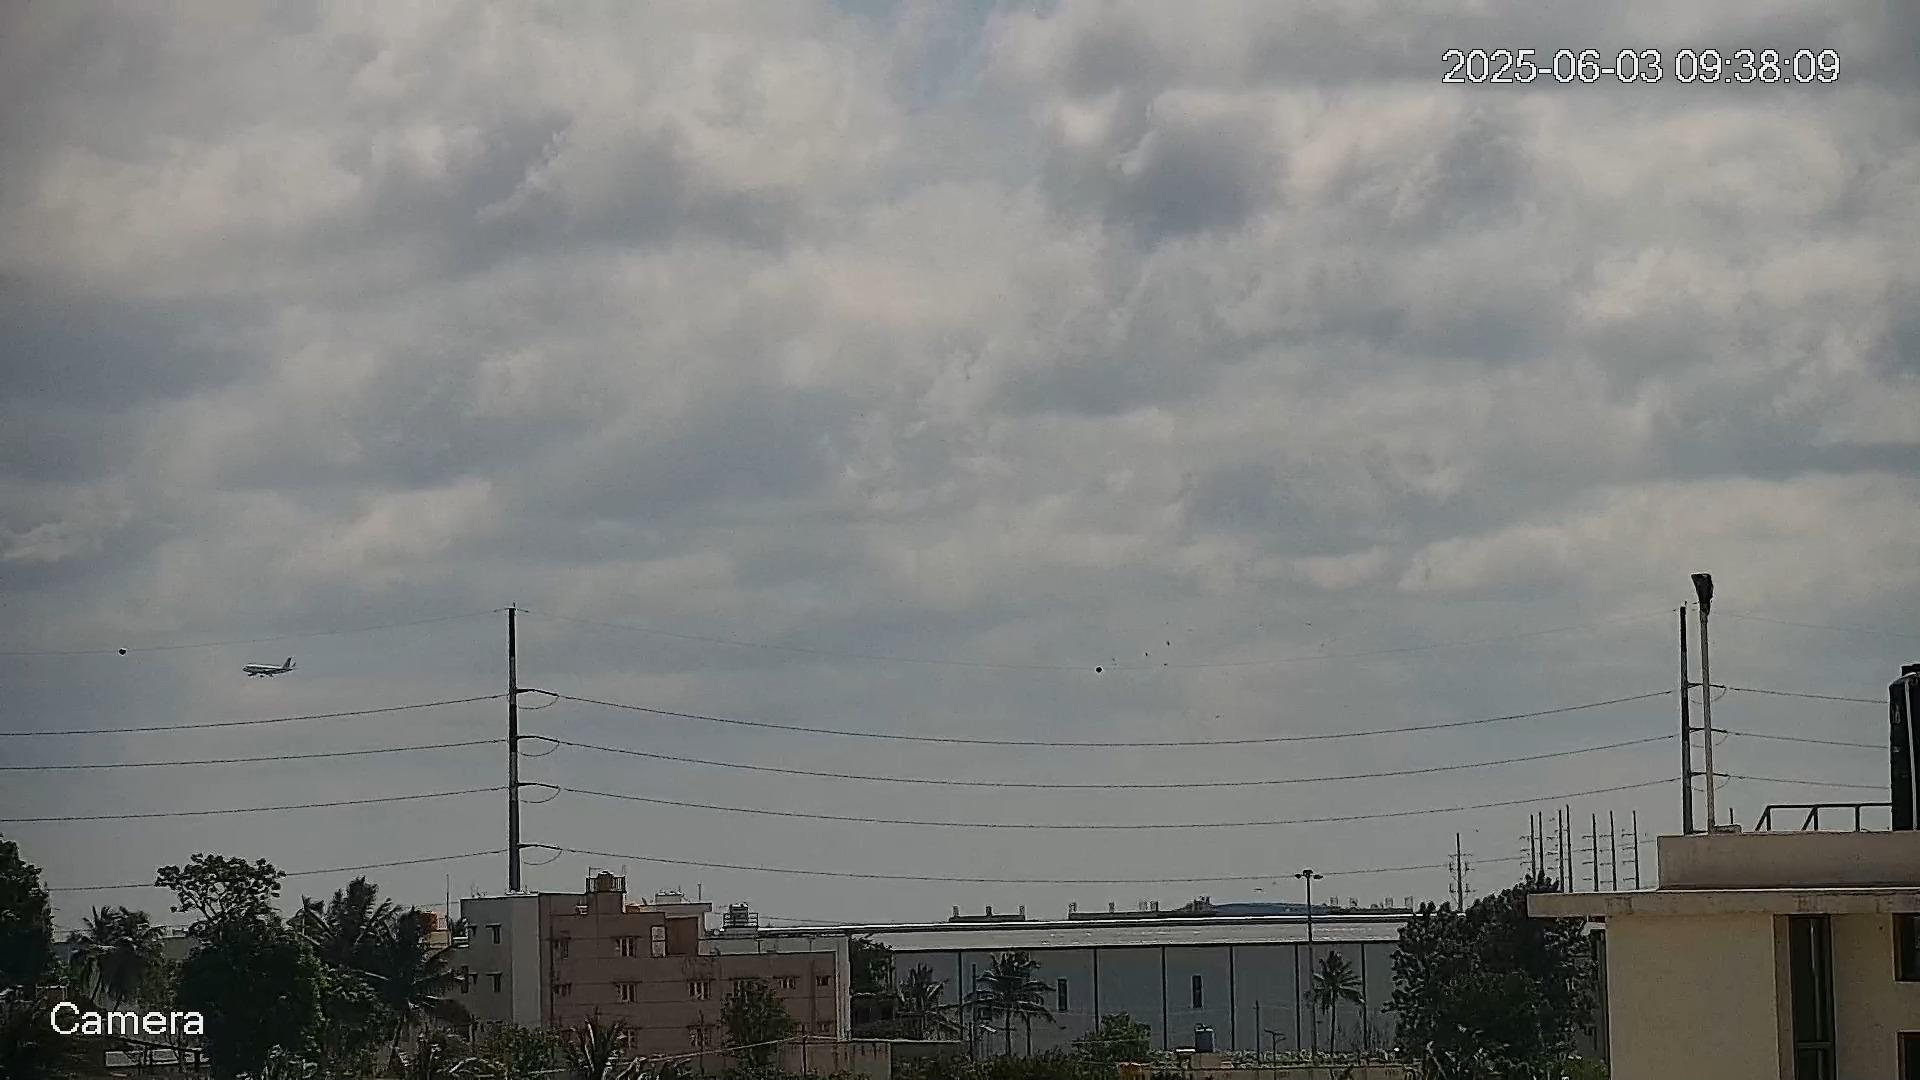Aircraft: (241, 657, 298, 678)
